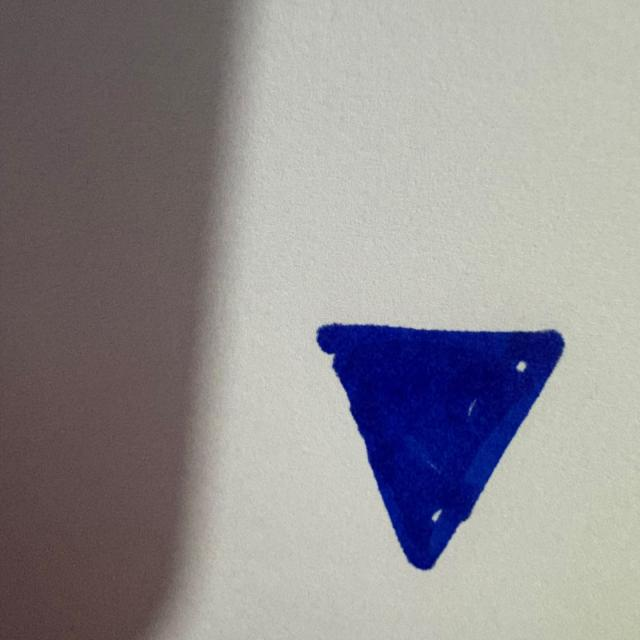Triangle: (317, 324, 564, 570)
